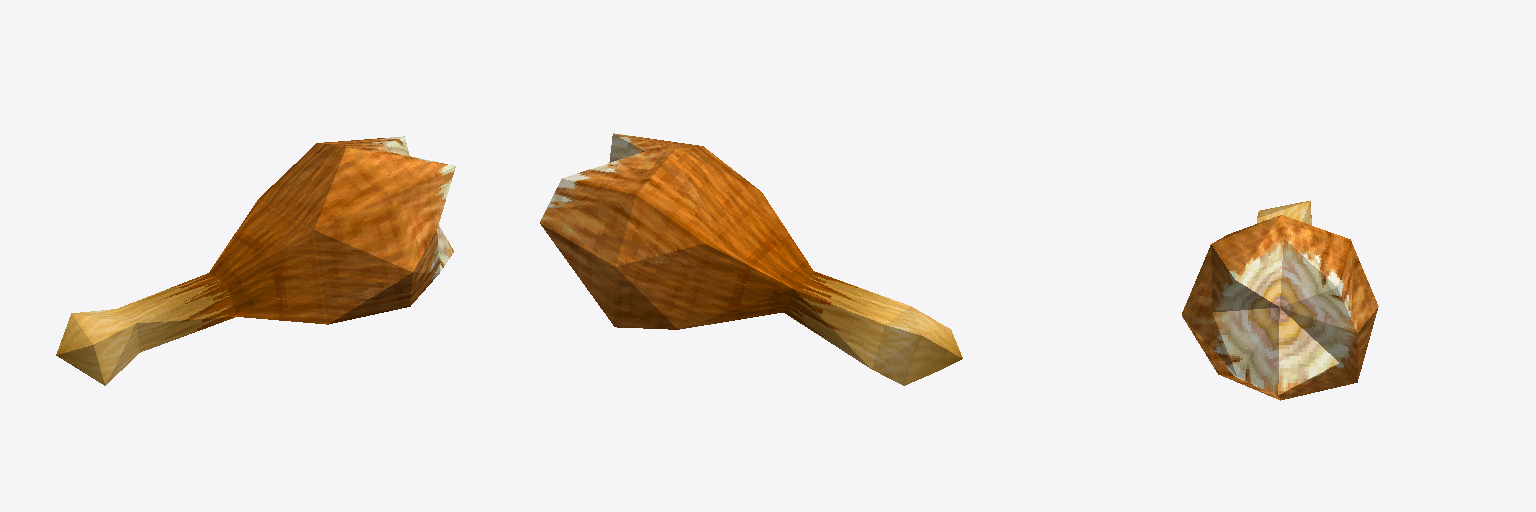
3 views of the same model, side by side, from view 1: azimuth 30°, elevation 25°; view 2: azimuth 150°, elevation 25°; view 3: azimuth 270°, elevation 25° (orthographic).
Parts seen in each view (by area): view 1: TurkeyLeg; view 2: TurkeyLeg; view 3: TurkeyLeg.
Boxes of the visible parts, <box> form: TurkeyLeg: <box>56,136,455,385</box>; TurkeyLeg: <box>540,133,962,385</box>; TurkeyLeg: <box>1182,201,1378,400</box>.
Bounding box in the file's own units: 0.8537 × 0.3537 × 0.3693.
1 materials, 1 textured.